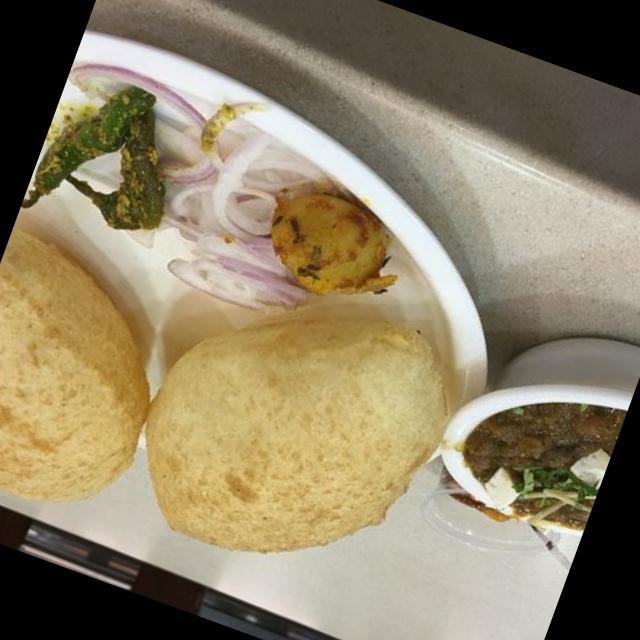Bhatura: (110, 243, 481, 610), (0, 222, 197, 532)
